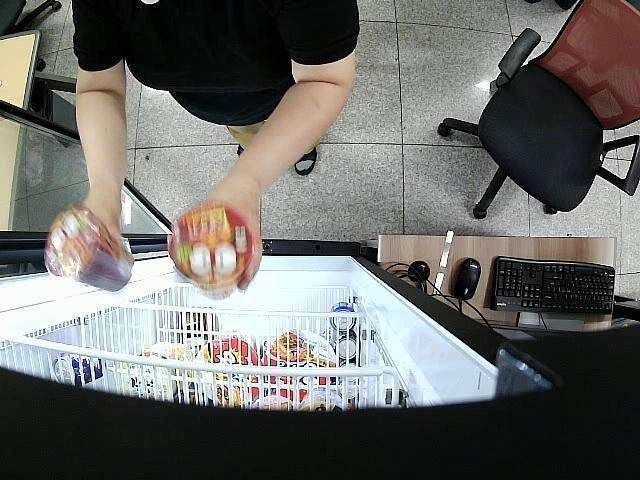06_nuguri_S: (170, 204, 256, 301), (44, 208, 136, 294)
